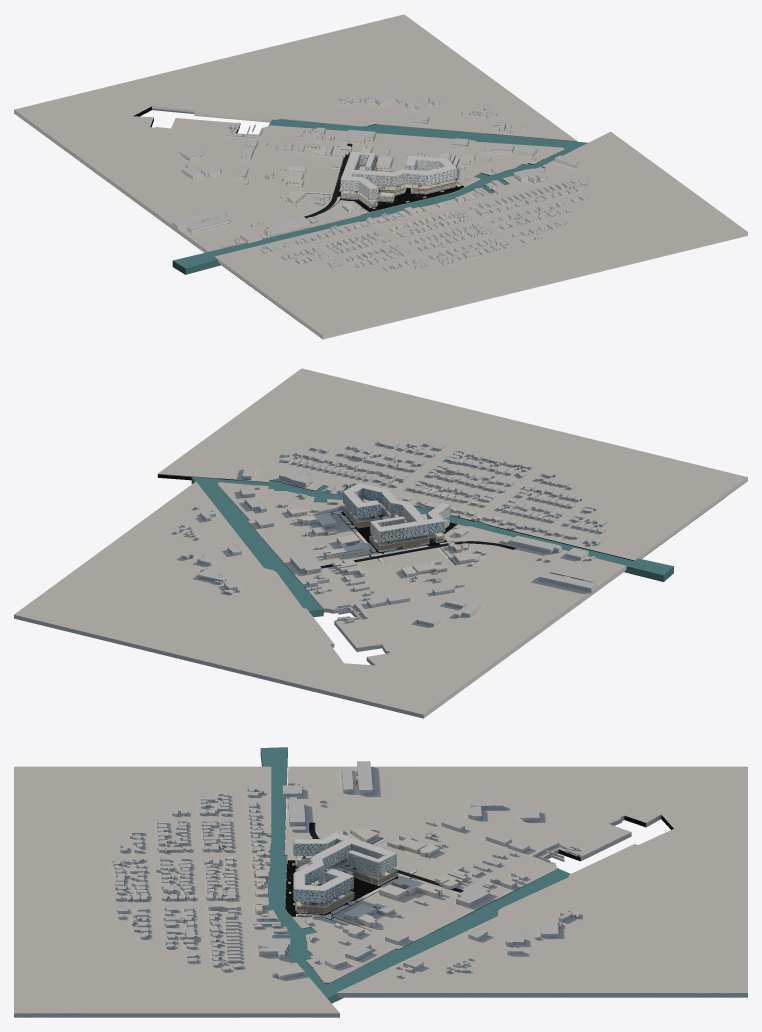
File: hive-light.glb
The picture shows the model from 3 angles, top to bottom: view 1: azimuth 30°, elevation 25°; view 2: azimuth 150°, elevation 25°; view 3: azimuth 270°, elevation 25°; orthographic projection. The views are drawn at different scales.
Parts seen in each view (by area): view 1: HIVE_miami-context_static, HIVE_miami-context_water, HIVE_residential-b_static, HIVE_parking-b_static, HIVE_residential-a_aluminum; view 2: HIVE_miami-context_static, HIVE_miami-context_water, HIVE_residential-b_static, HIVE_parking-b_static, HIVE_residential-d_aluminum, HIVE_retail-b_static; view 3: HIVE_miami-context_static, HIVE_miami-context_water, HIVE_residential-b_static, HIVE_parking-b_static, HIVE_residential-d_aluminum, HIVE_retail-b_static.
Boxes of the visible parts, x1,y1,x2,y2 form: HIVE_miami-context_static: [14, 14, 747, 339]; HIVE_miami-context_water: [172, 119, 587, 274]; HIVE_residential-b_static: [341, 151, 456, 188]; HIVE_parking-b_static: [340, 166, 456, 206]; HIVE_residential-a_aluminum: [340, 172, 378, 199]; HIVE_miami-context_static: [14, 368, 747, 718]; HIVE_miami-context_water: [191, 477, 673, 617]; HIVE_residential-b_static: [344, 482, 449, 531]; HIVE_parking-b_static: [342, 500, 449, 550]; HIVE_residential-d_aluminum: [370, 516, 428, 542]; HIVE_retail-b_static: [293, 509, 475, 566]; HIVE_miami-context_static: [14, 761, 747, 1017]; HIVE_miami-context_water: [260, 747, 570, 1003]; HIVE_residential-b_static: [294, 832, 396, 890]; HIVE_parking-b_static: [295, 856, 397, 912]; HIVE_residential-d_aluminum: [346, 837, 396, 874]; HIVE_retail-b_static: [296, 838, 416, 931].
Bounding box in the file's own units: 1147 × 65.54 × 1333.
12 materials, 8 textured.
